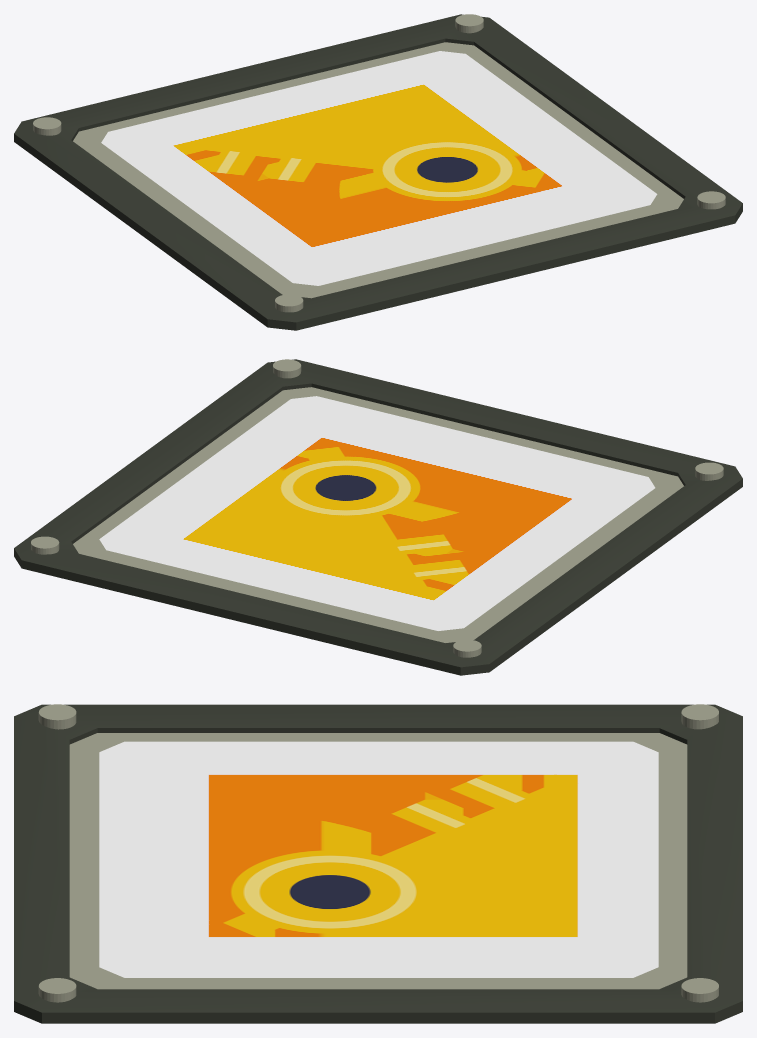
The model's file is flying platform.fbx.
3 views of the same model, one above another, from view 1: azimuth 30°, elevation 25°; view 2: azimuth 150°, elevation 25°; view 3: azimuth 270°, elevation 25° (orthographic). The views are drawn at different scales.
Parts seen in each view (by area): view 1: key image.001, flying platform; view 2: key image.001, flying platform; view 3: key image.001, flying platform.
Part boxes in pixels (box(x1,y1,x2,y2)): key image.001: box(101, 51, 657, 285); flying platform: box(14, 14, 742, 330); key image.001: box(99, 396, 655, 630); flying platform: box(14, 359, 742, 675); key image.001: box(99, 741, 658, 977); flying platform: box(14, 704, 742, 1023).
Bounding box in the file's own units: 420 × 14.93 × 420.
